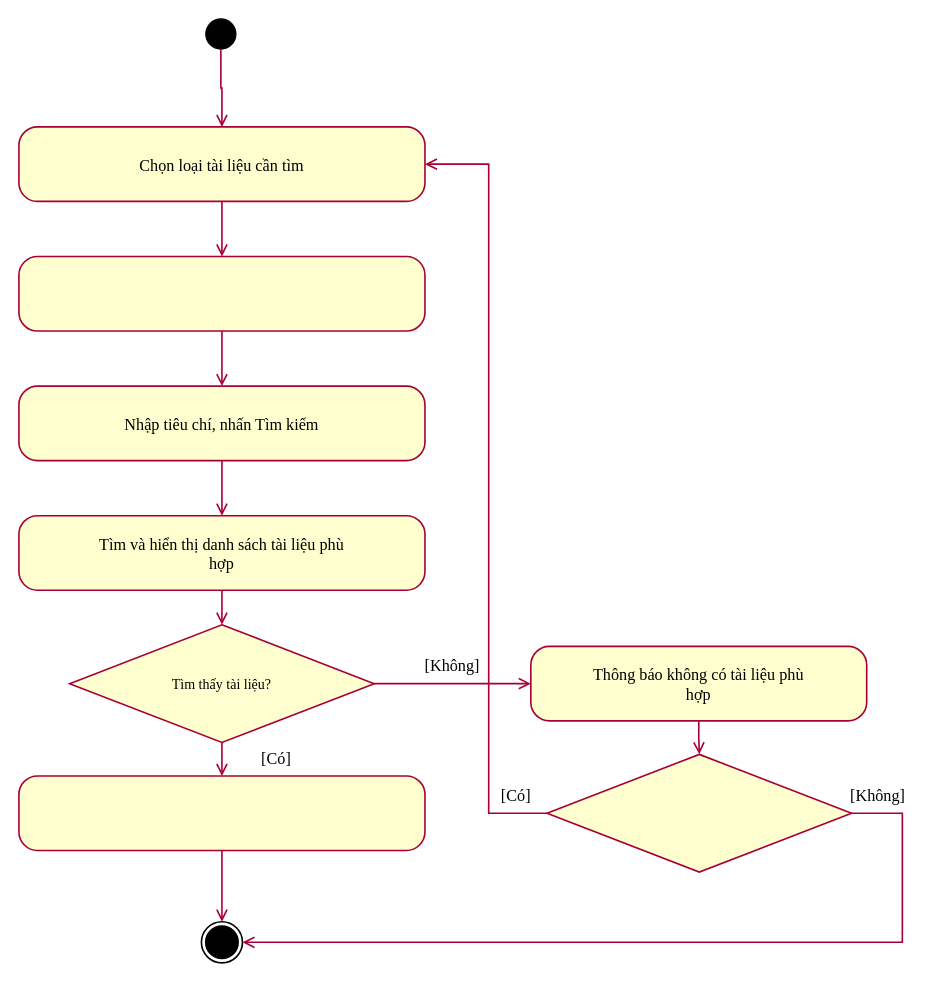
The diagram is 950 pixels wide and 983 high, and some of its shapes have lost their labels. The shapes that lost their labels are listed below. From the top down, each one's centre as x and y in pixels, then its label:
At point 221,293: "Hiển thị form nhập thông tin".
At point 221,813: "Hiển thị danh sách tài liệu".
At point 699,812: "Tìm lại?".
